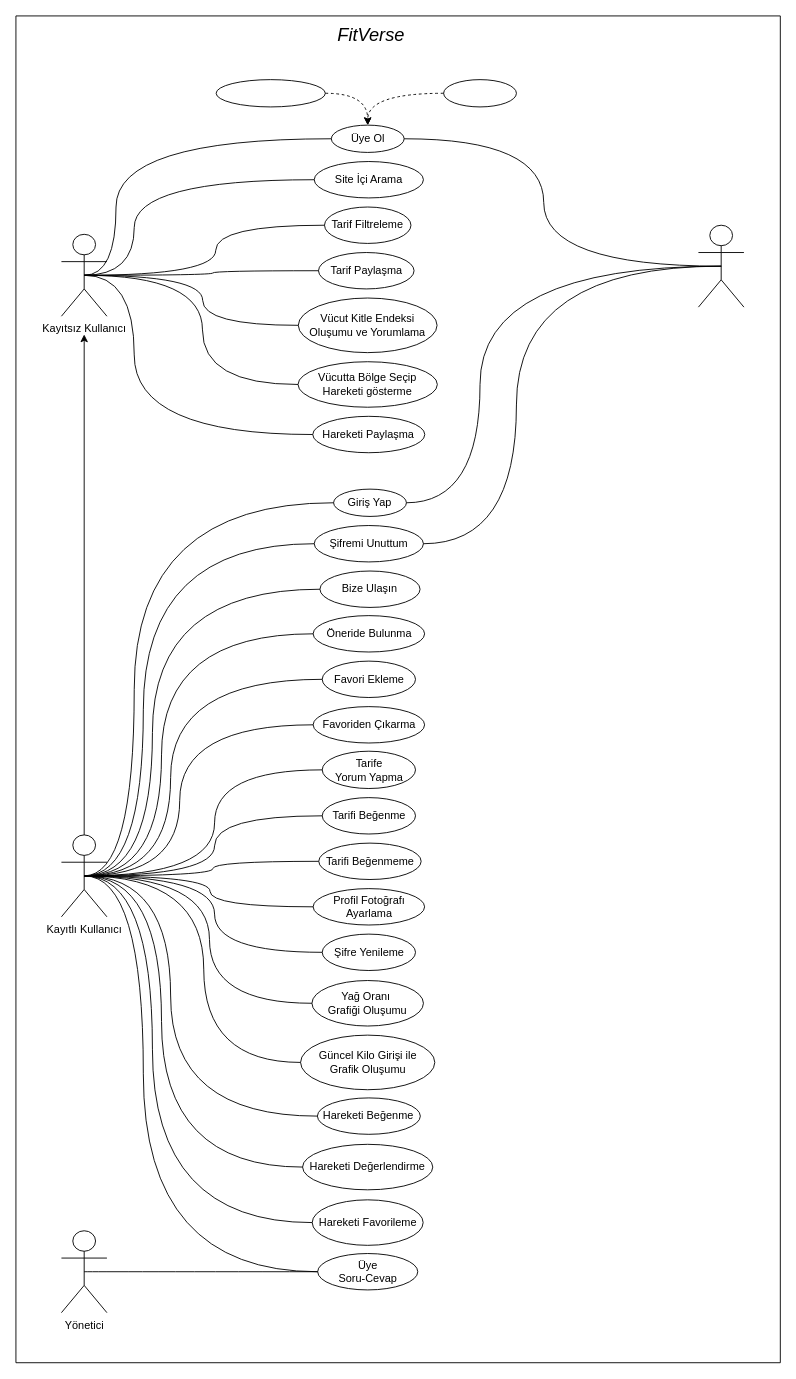
Image size: 796x1379. Some labels were removed from this diagram. The centre of each missing label's shape, as x and y in pixels:
E-posta: the point at 479,93
Güvenlik Servisi: the point at 721,265
Telefon Numarası: the point at 270,93
